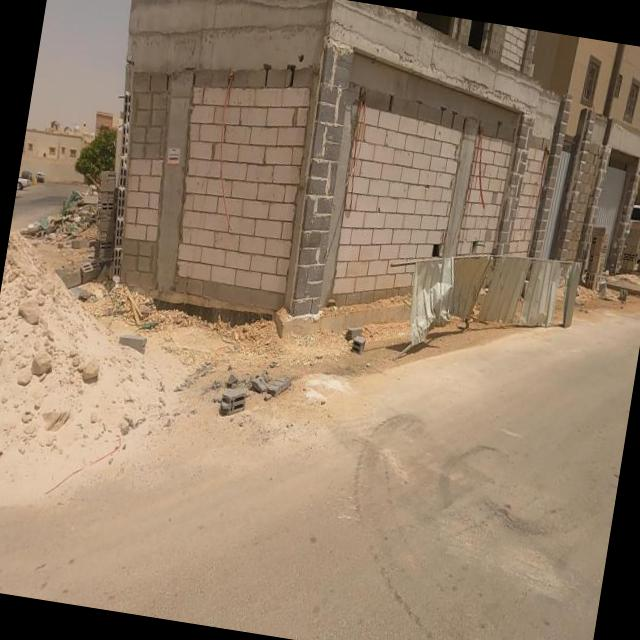debris: (2, 132, 138, 298), (569, 236, 640, 337)
